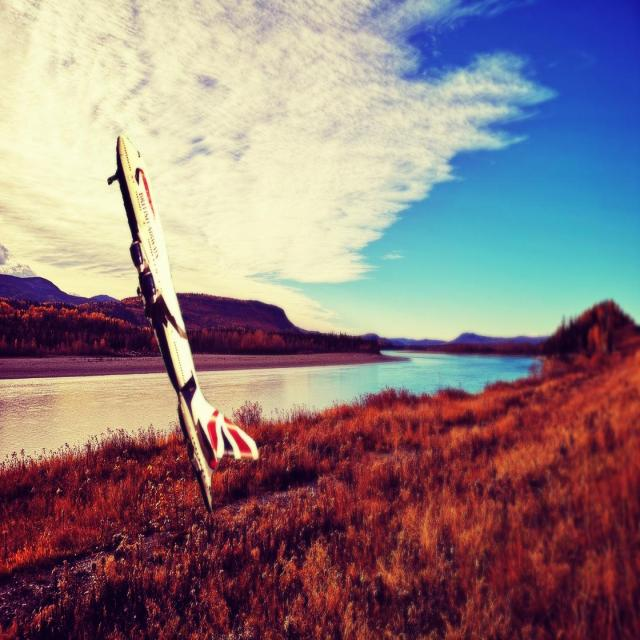airplane: (106, 133, 259, 513)
